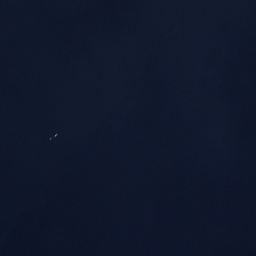Ship: (50, 133, 58, 140)
